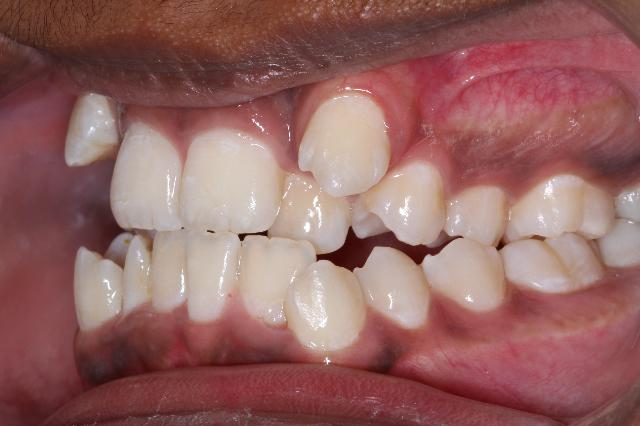canine class II 1/4: (286, 85, 430, 357)
molar class III 1/4: (498, 163, 618, 303)
